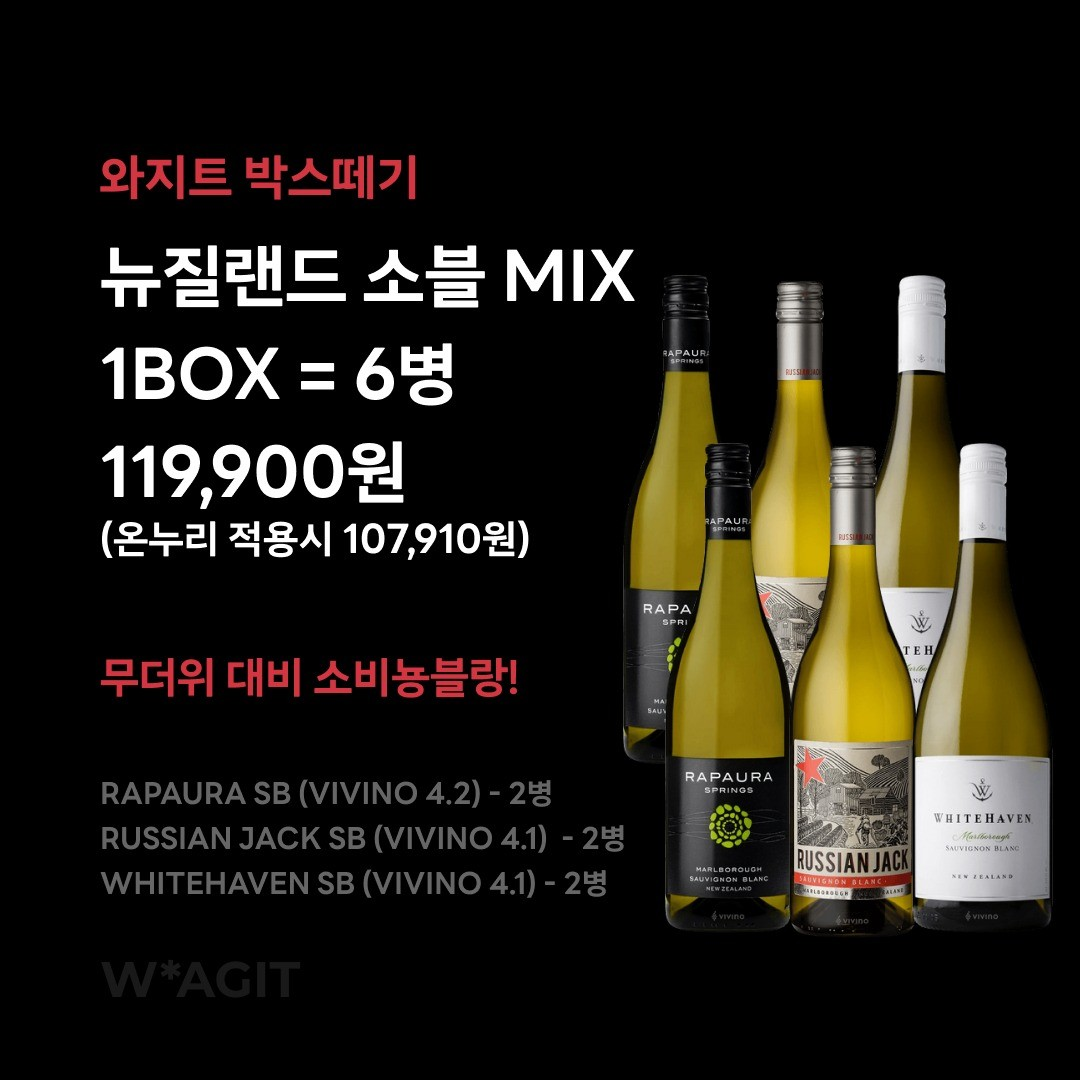alcohol: (854, 269, 1013, 779), (910, 437, 1057, 942), (614, 270, 757, 770), (655, 434, 794, 941), (789, 441, 920, 944), (740, 275, 866, 775)
